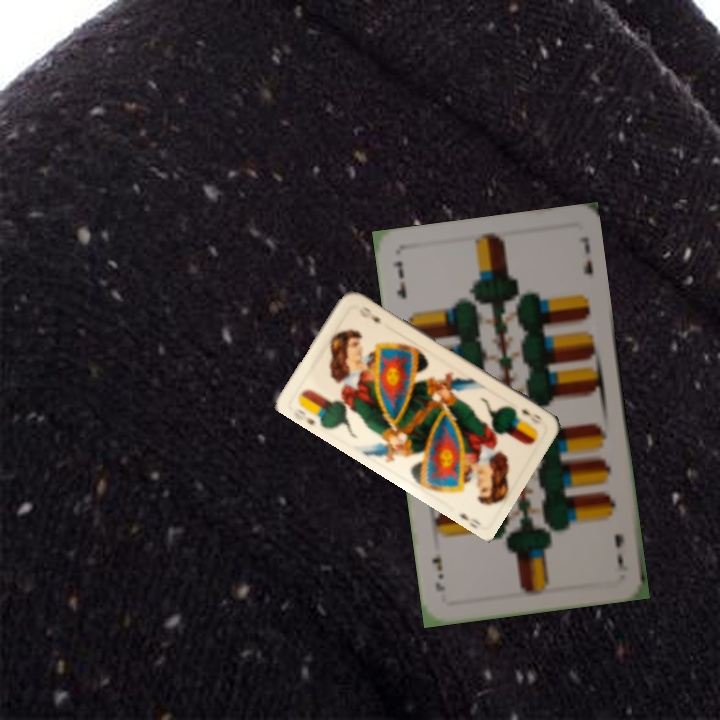E7: (609, 530, 631, 574), (389, 256, 410, 302)
EO: (290, 404, 320, 430), (517, 405, 545, 427)
